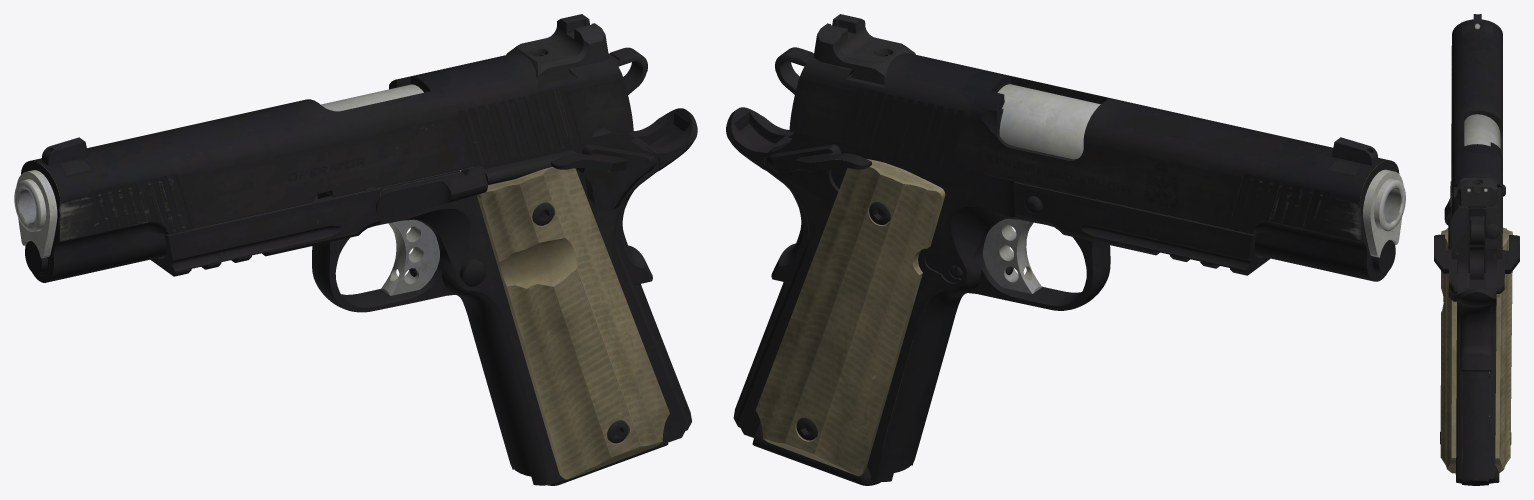
File: weapon_pistol1911.glb
3 views of the same model, side by side, from view 1: azimuth 30°, elevation 25°; view 2: azimuth 150°, elevation 25°; view 3: azimuth 270°, elevation 25° (orthographic). The views are drawn at different scales.
Parts seen in each view (by area): view 1: main_frame_pistol1911, slide_pistol1911, rear_sight_pistol1911, trigger_pistol1911, chamber_pistol1911, hammer_pistol1911, front_sight_pistol1911; view 2: main_frame_pistol1911, slide_pistol1911, chamber_pistol1911, rear_sight_pistol1911, trigger_pistol1911, magazine_pistol1911, hammer_pistol1911, front_sight_pistol1911; view 3: main_frame_pistol1911, slide_pistol1911, rear_sight_pistol1911, chamber_pistol1911, hammer_pistol1911, front_sight_pistol1911.
Boxes of the visible parts, box(x1,y1,x2,y2) form: main_frame_pistol1911: box(150, 108, 697, 485); slide_pistol1911: box(16, 53, 633, 282); rear_sight_pistol1911: box(506, 14, 608, 84); trigger_pistol1911: box(381, 219, 439, 295); chamber_pistol1911: box(14, 84, 423, 231); hammer_pistol1911: box(609, 47, 647, 94); front_sight_pistol1911: box(42, 137, 88, 165); main_frame_pistol1911: box(726, 107, 1270, 481); slide_pistol1911: box(789, 53, 1403, 281); chamber_pistol1911: box(997, 84, 1405, 231); rear_sight_pistol1911: box(813, 14, 915, 84); trigger_pistol1911: box(983, 218, 1041, 294); magazine_pistol1911: box(752, 422, 880, 485); hammer_pistol1911: box(775, 47, 813, 94); front_sight_pistol1911: box(1331, 137, 1377, 165); main_frame_pistol1911: box(1434, 124, 1519, 485); slide_pistol1911: box(1451, 19, 1502, 259); rear_sight_pistol1911: box(1457, 178, 1497, 206); chamber_pistol1911: box(1464, 114, 1500, 148); hammer_pistol1911: box(1470, 216, 1484, 279); front_sight_pistol1911: box(1473, 14, 1481, 33).
Bounding box in the file's own units: 29.74 × 19.24 × 5.17.
Materials: 1 (1 with a texture image).
